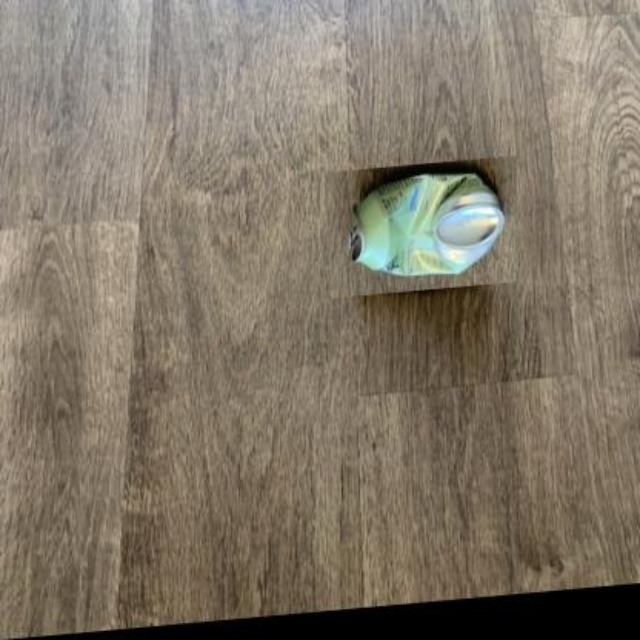trash: (351, 174, 503, 274)
